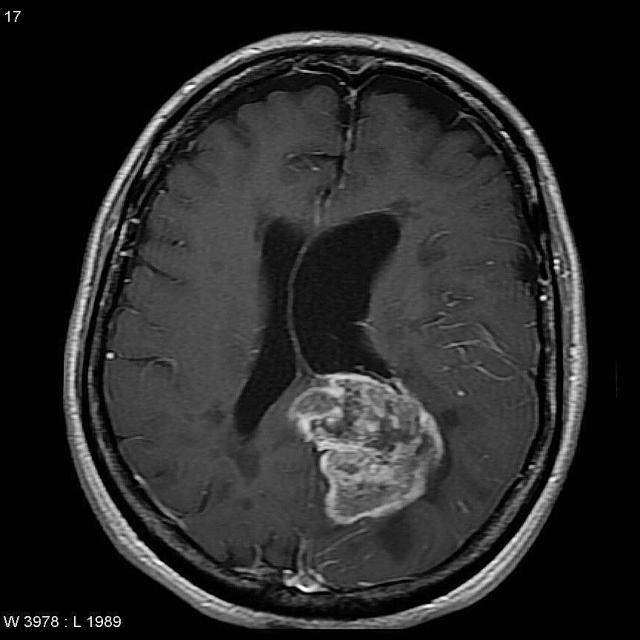Tumor-Cell: (288, 360, 436, 530)
